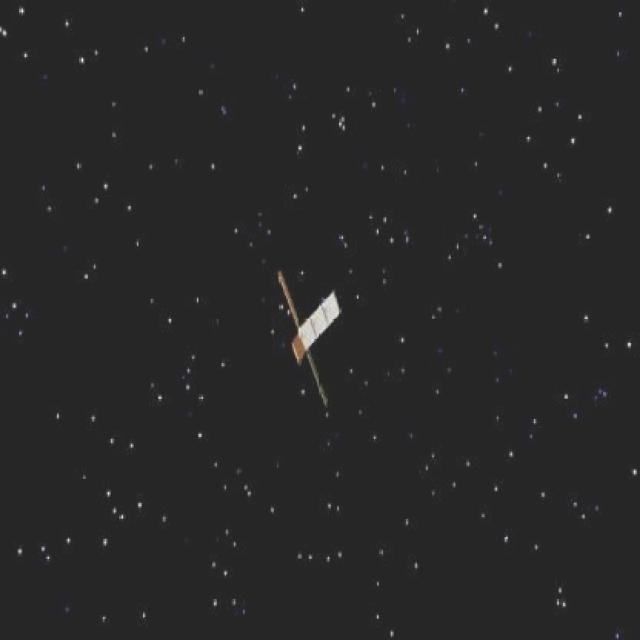satellite: (270, 263, 347, 421)
